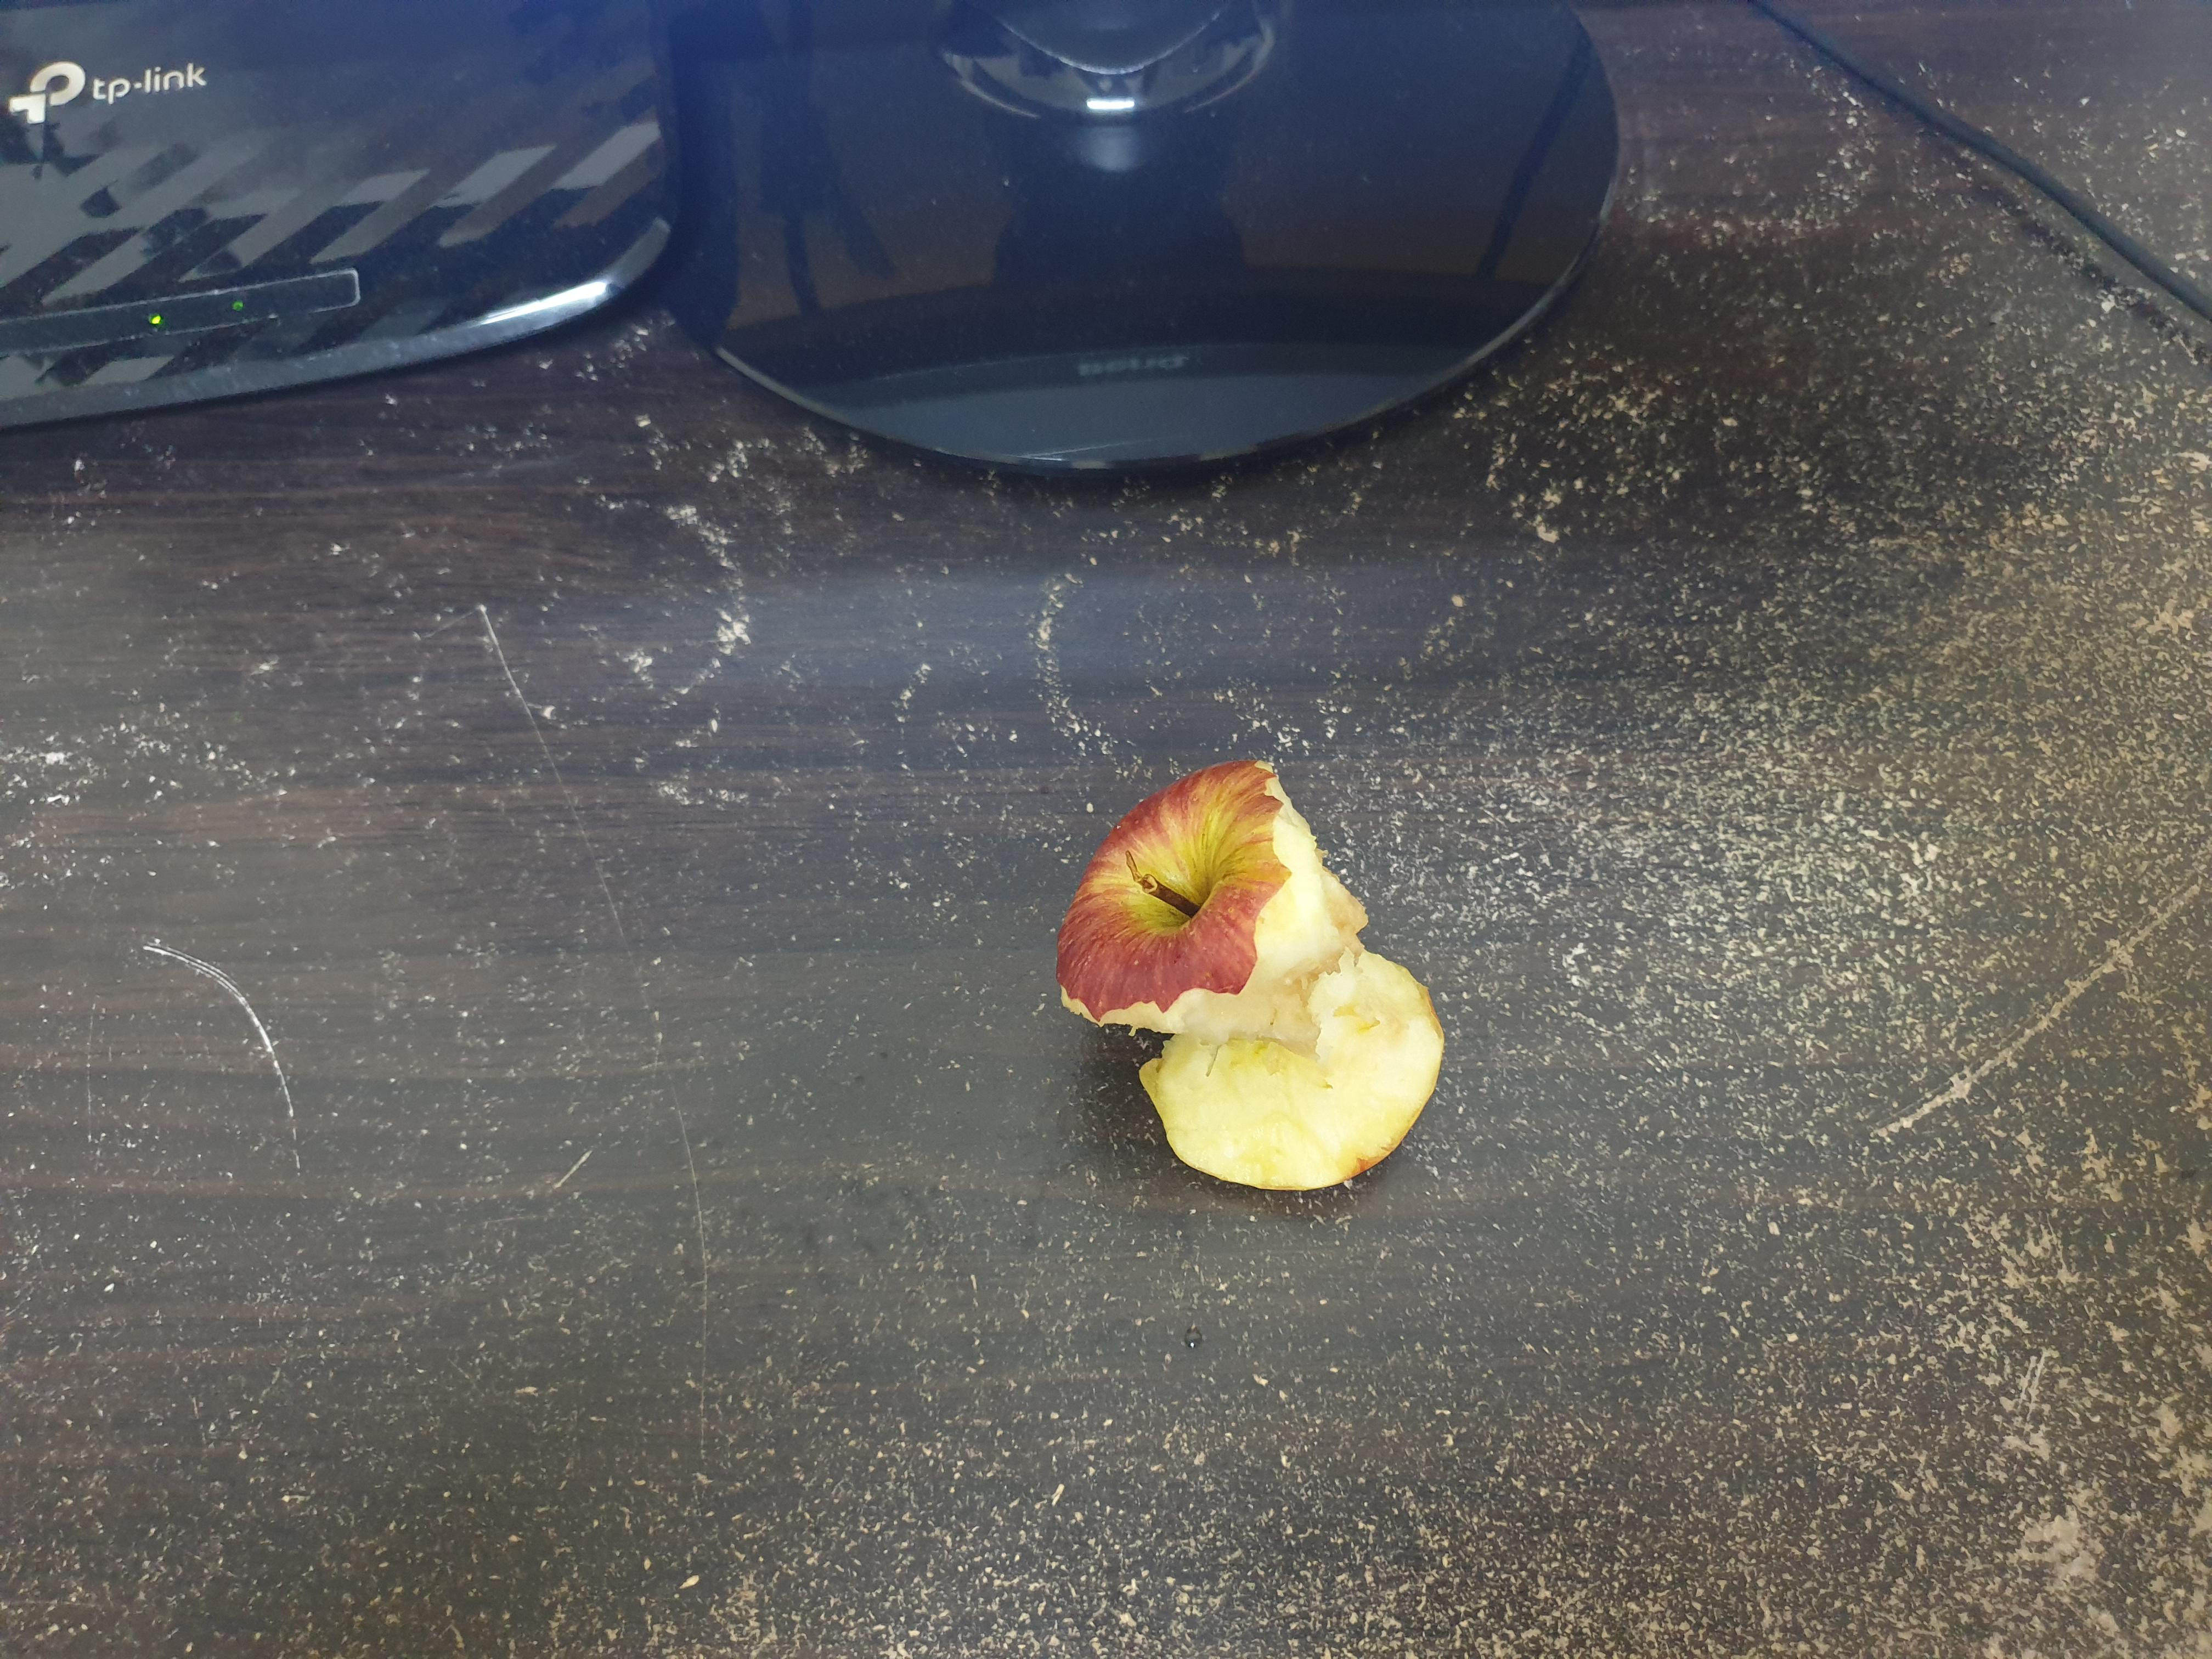Apple: (1028, 734, 1484, 1248)
